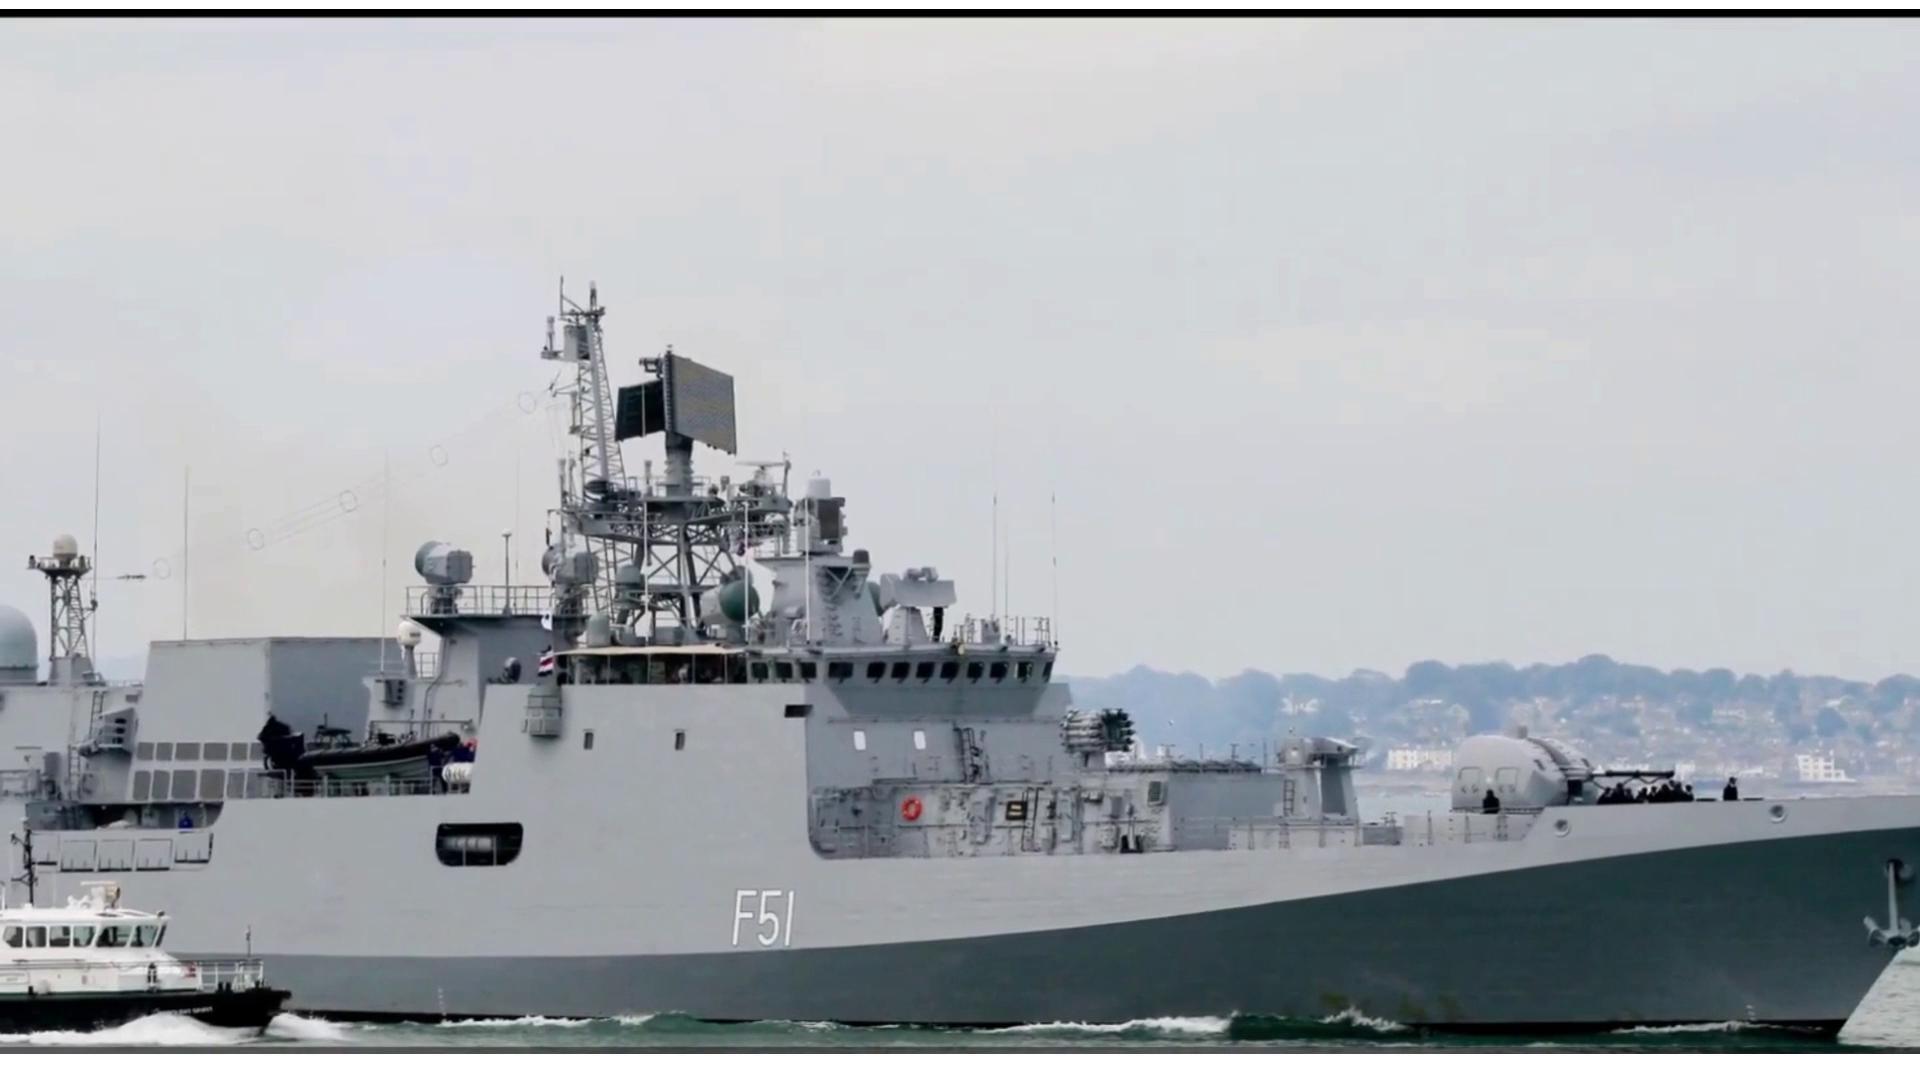OCR: (723, 876, 825, 964)
